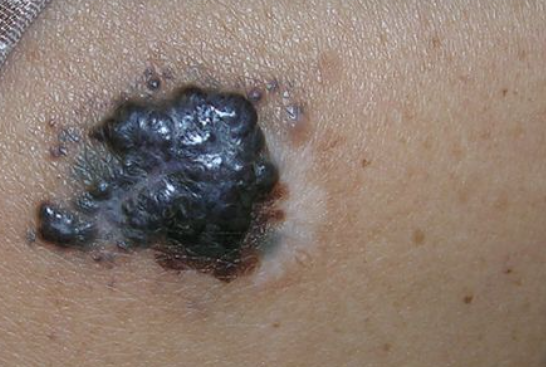Melanoma: (37, 86, 293, 285)
